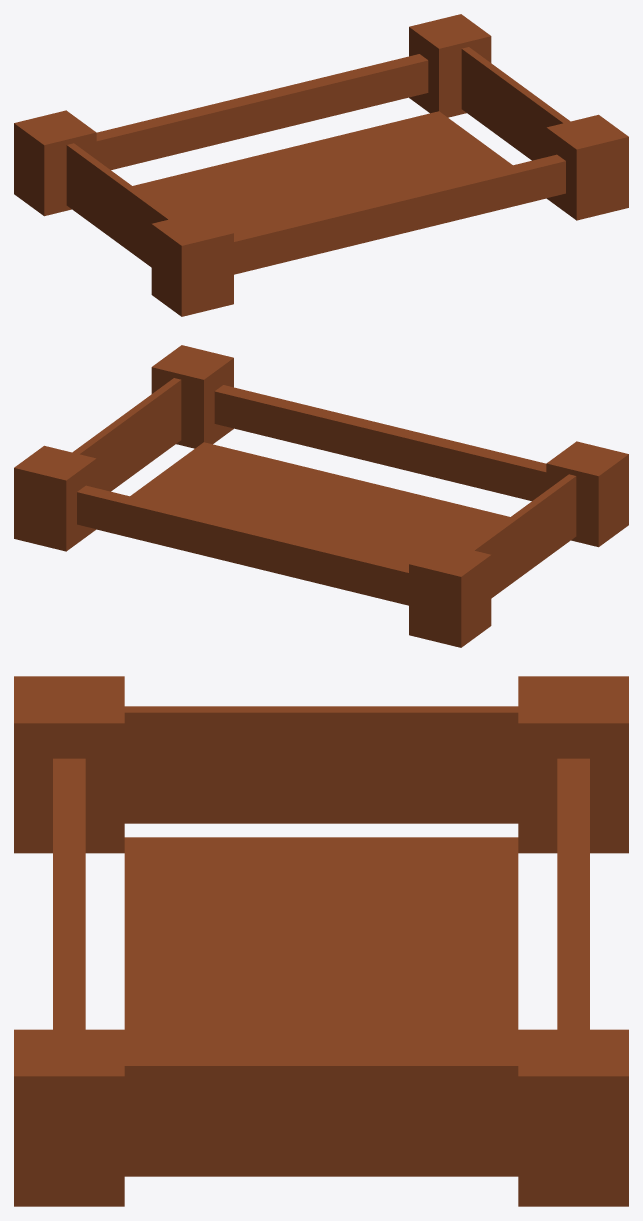
The picture shows the model from 3 angles, top to bottom: view 1: azimuth 30°, elevation 25°; view 2: azimuth 150°, elevation 25°; view 3: azimuth 270°, elevation 25°; orthographic projection. The views are drawn at different scales.
Visible parts, largest first — view 1: Cube; view 2: Cube; view 3: Cube.
Part boxes in pixels (left/top/right/bottom): Cube: left=14, top=14, right=628, bottom=316; Cube: left=14, top=345, right=628, bottom=647; Cube: left=14, top=676, right=628, bottom=1206.
Size of the model in its own units: 330 by 50.06 by 214.
